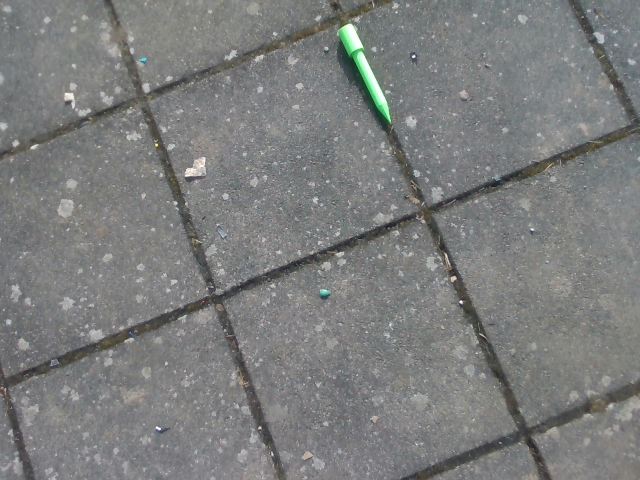Probe: (334, 19, 397, 128)
